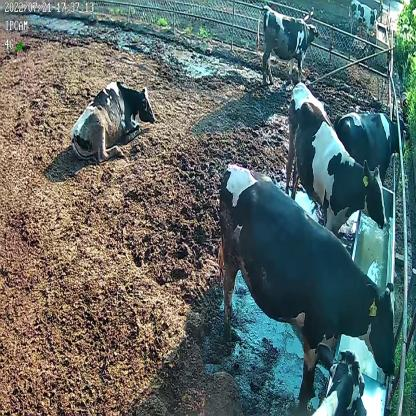cow: (216, 164, 398, 399), (286, 83, 389, 245), (73, 78, 157, 164), (336, 109, 410, 185), (256, 3, 320, 84), (346, 1, 378, 46)
